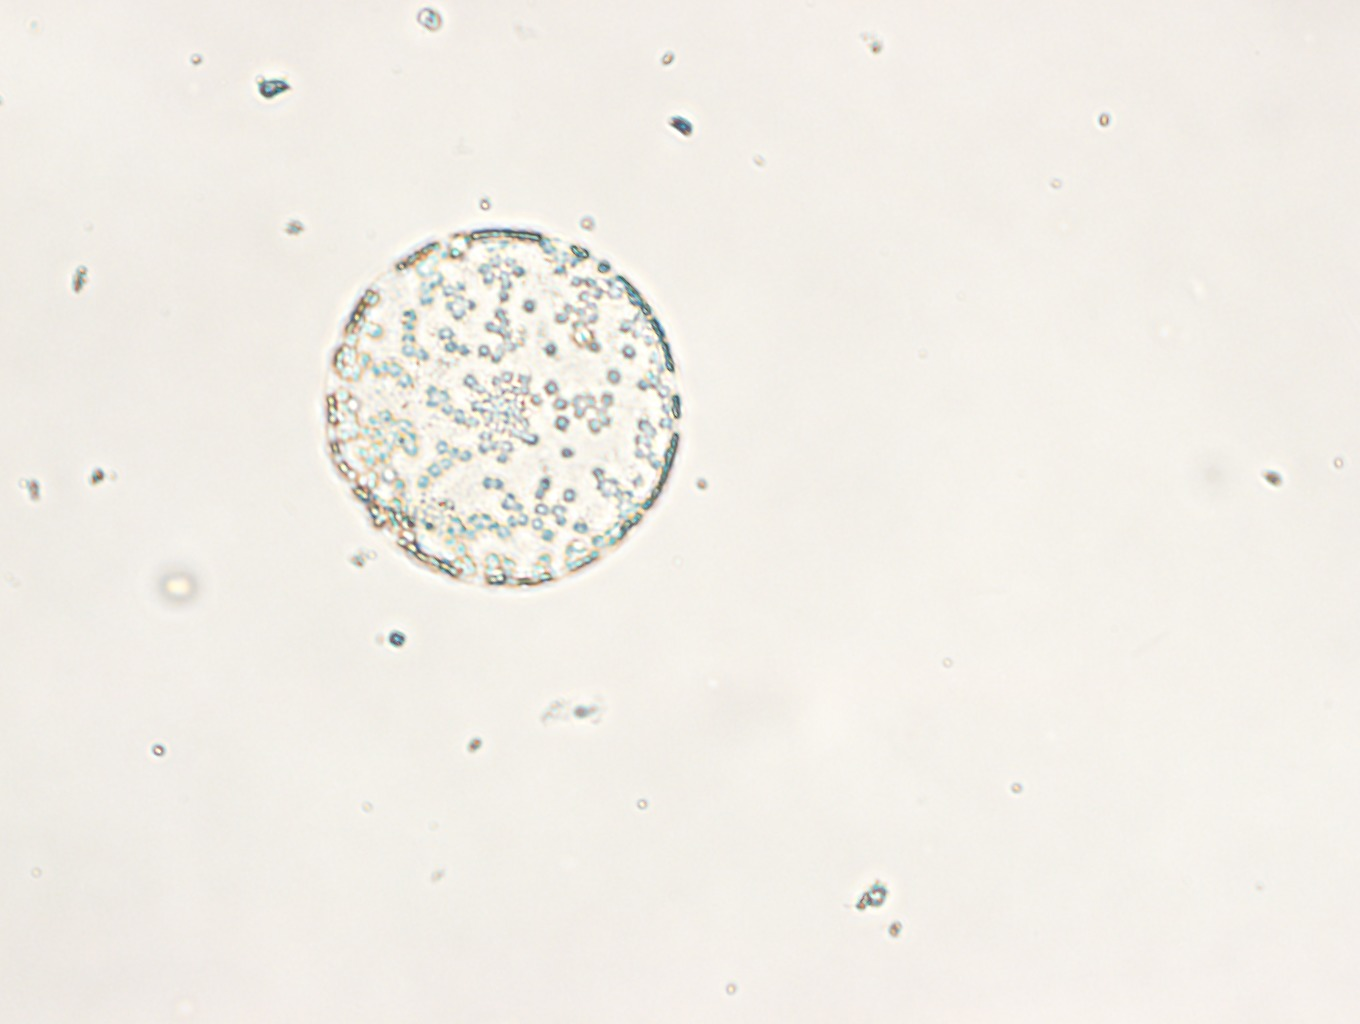coscinodiscus: (327, 229, 681, 586)
